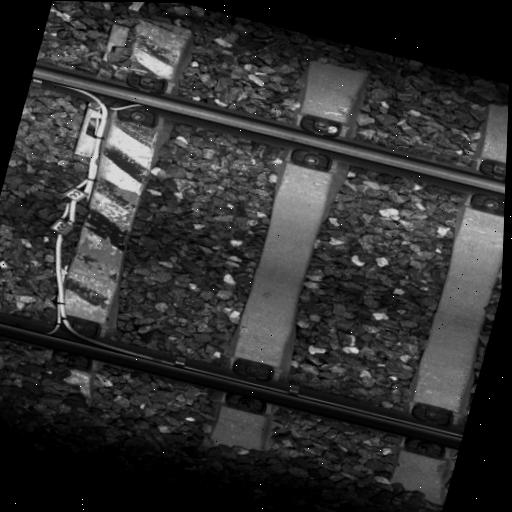sleeper: (19, 10, 194, 418), (204, 54, 371, 458), (381, 97, 509, 509)
